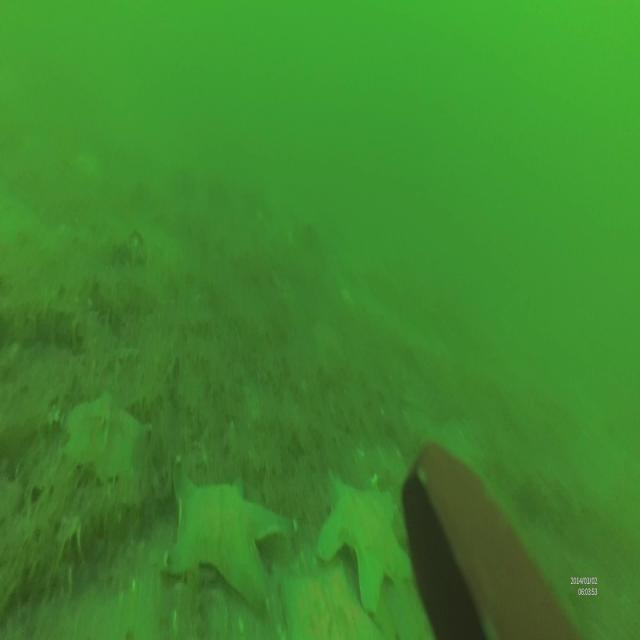starfish: (163, 454, 298, 624), (320, 465, 418, 619), (276, 556, 388, 640), (57, 396, 151, 494)
